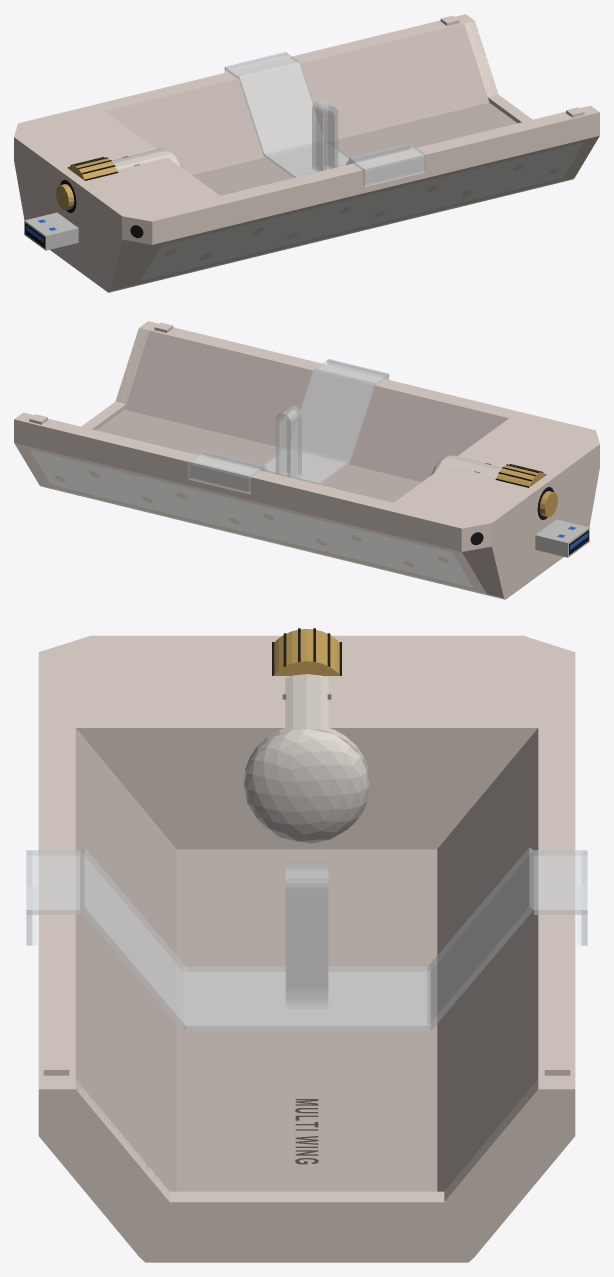
File: claymore-multi-wing.glb
3 renders of one model, top to bottom at view 1: azimuth 30°, elevation 25°; view 2: azimuth 150°, elevation 25°; view 3: azimuth 270°, elevation 25°, orthographic. The views are drawn at different scales.
Parts seen in each view (by area): view 1: claymore-multi-wing-body, claymore-multi-wing-tray, claymore-multi-wing-diffuser, claymore-multi-wing-clip, claymore-multi-wing-steel, claymore-multi-wing-brass, claymore-multi-wing-dark, claymore-multi-wing-housing, claymore-multi-wing-led; view 2: claymore-multi-wing-body, claymore-multi-wing-tray, claymore-multi-wing-diffuser, claymore-multi-wing-clip, claymore-multi-wing-steel, claymore-multi-wing-brass, claymore-multi-wing-dark, claymore-multi-wing-housing, claymore-multi-wing-led; view 3: claymore-multi-wing-tray, claymore-multi-wing-body, claymore-multi-wing-clip, claymore-multi-wing-housing, claymore-multi-wing-brass, claymore-multi-wing-ink.
Boxes of the visible parts, x1=… form: claymore-multi-wing-body: x1=14, y1=14, x2=599, y2=292; claymore-multi-wing-tray: x1=105, y1=21, x2=516, y2=195; claymore-multi-wing-diffuser: x1=140, y1=142, x2=583, y2=280; claymore-multi-wing-clip: x1=224, y1=52, x2=425, y2=186; claymore-multi-wing-steel: x1=24, y1=212, x2=78, y2=250; claymore-multi-wing-brass: x1=56, y1=157, x2=117, y2=210; claymore-multi-wing-dark: x1=25, y1=157, x2=143, y2=247; claymore-multi-wing-housing: x1=112, y1=148, x2=182, y2=169; claymore-multi-wing-led: x1=165, y1=164, x2=559, y2=259; claymore-multi-wing-body: x1=14, y1=321, x2=599, y2=599; claymore-multi-wing-tray: x1=97, y1=328, x2=508, y2=502; claymore-multi-wing-diffuser: x1=30, y1=449, x2=473, y2=587; claymore-multi-wing-clip: x1=188, y1=359, x2=389, y2=493; claymore-multi-wing-steel: x1=535, y1=519, x2=589, y2=557; claymore-multi-wing-brass: x1=496, y1=464, x2=557, y2=517; claymore-multi-wing-dark: x1=470, y1=464, x2=588, y2=554; claymore-multi-wing-housing: x1=431, y1=455, x2=501, y2=476; claymore-multi-wing-led: x1=54, y1=471, x2=448, y2=566; claymore-multi-wing-tray: x1=75, y1=728, x2=538, y2=1192; claymore-multi-wing-body: x1=38, y1=635, x2=575, y2=1262; claymore-multi-wing-clip: x1=26, y1=847, x2=587, y2=1031; claymore-multi-wing-housing: x1=244, y1=674, x2=369, y2=843; claymore-multi-wing-brass: x1=273, y1=629, x2=340, y2=675; claymore-multi-wing-ink: x1=295, y1=1099, x2=318, y2=1164.
Size of the model in its own units: 0.1607 by 0.0304 by 0.0784.
